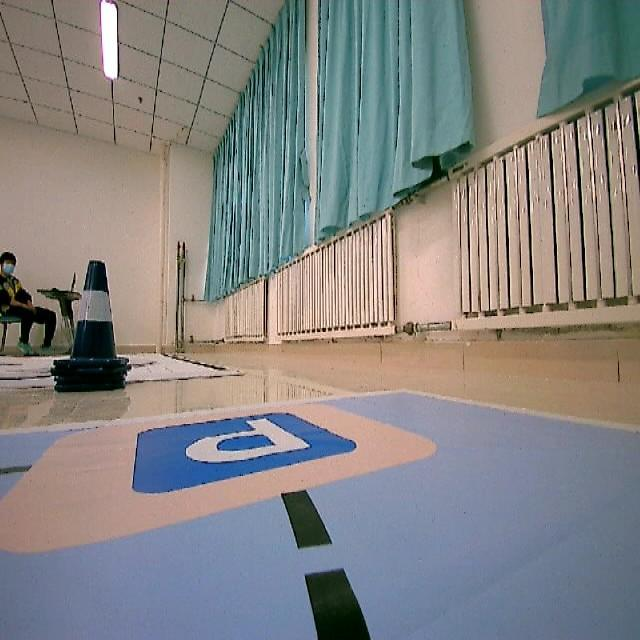obstacle: (52, 245, 136, 398)
